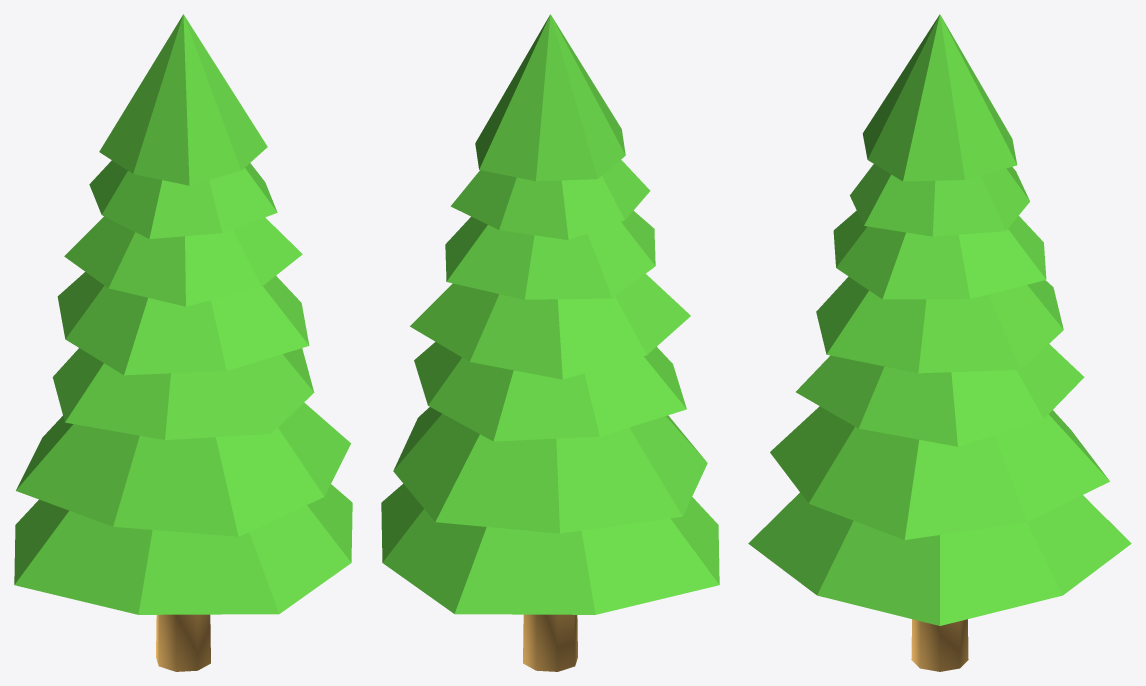
Rendered from Prop_Tree_01.fbx.
The picture shows the model from 3 angles, left to right: view 1: azimuth 30°, elevation 25°; view 2: azimuth 150°, elevation 25°; view 3: azimuth 270°, elevation 25°; orthographic projection.
Visible parts, largest first — view 1: Prop_Tree_01; view 2: Prop_Tree_01; view 3: Prop_Tree_01.
Boxes of the visible parts, box(x1,y1,x2,y2) form: Prop_Tree_01: box(14, 14, 352, 671); Prop_Tree_01: box(381, 14, 719, 671); Prop_Tree_01: box(748, 14, 1131, 671).
Size of the model in its own units: 246 by 449 by 242.
